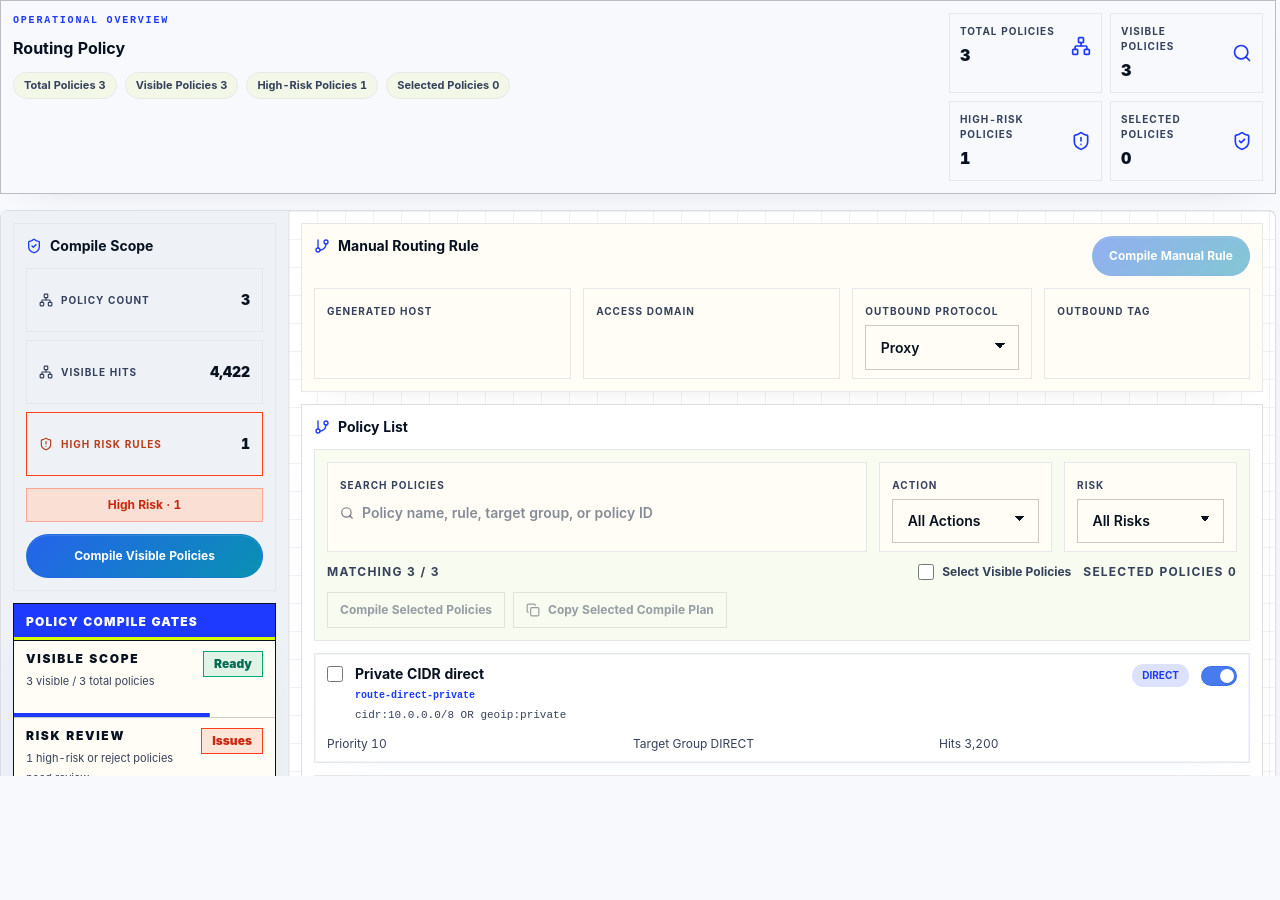
Scenario: RoutingPage › shows an empty filtered state and prevents compiling when no routing policies match
Step 1. Type "wireguard" into the search field labelled "Search Policies" → (608, 513), box top-left (362, 503), bottom-right (854, 523)
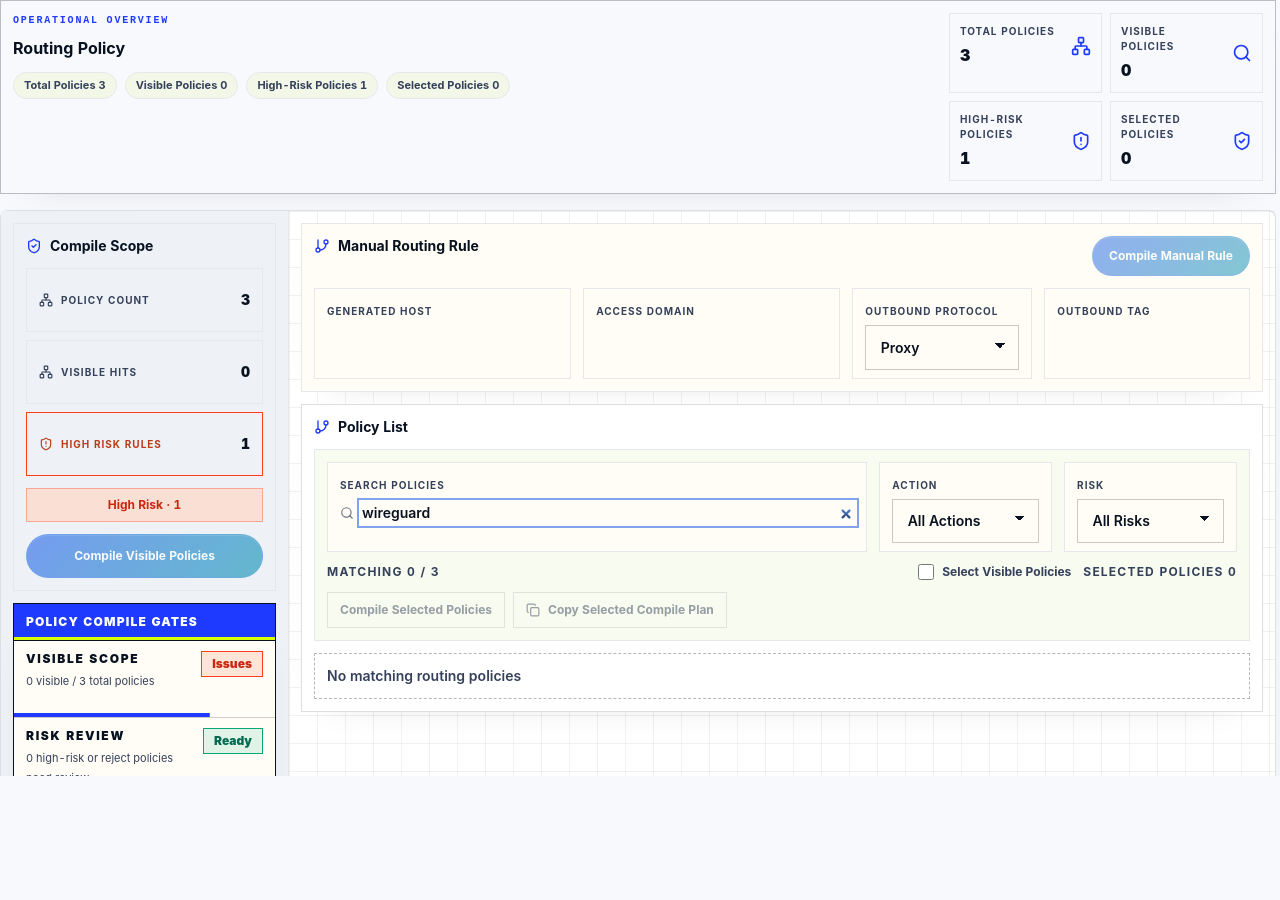
expect the text "Matching 0 / 3" is shown: met, box top-left (327, 564), bottom-right (440, 580)
expect the text "No matching routing policies" is shown: met, box top-left (314, 653), bottom-right (1250, 699)
expect the button "Compile Visible Policies" is disabled: met, box top-left (26, 534), bottom-right (263, 578)
